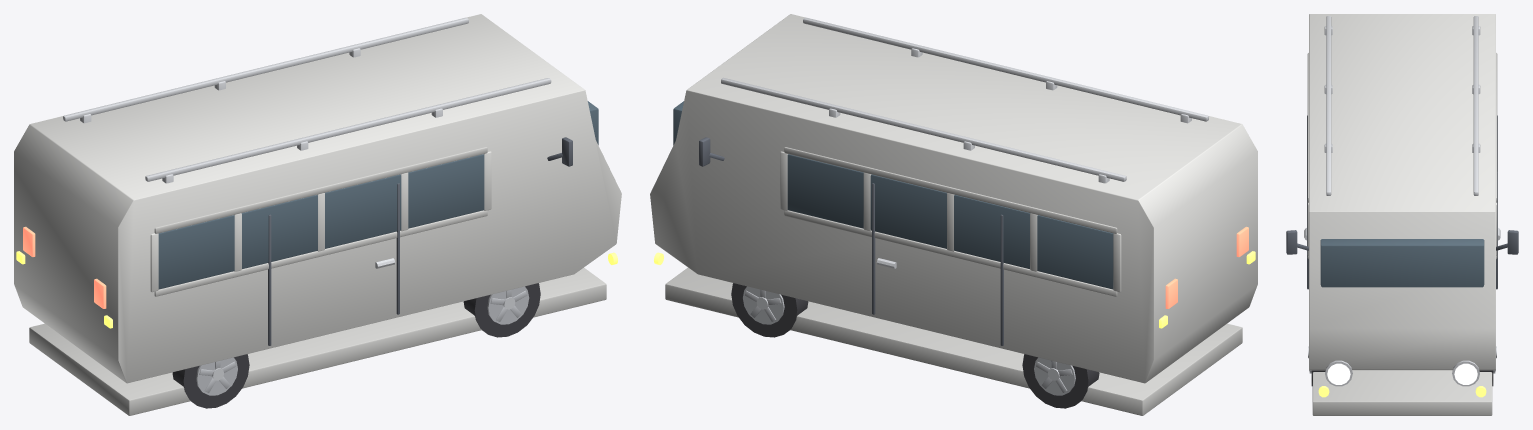
File: th40_kleinbus.glb
3 views of the same model, side by side, from view 1: azimuth 30°, elevation 25°; view 2: azimuth 150°, elevation 25°; view 3: azimuth 270°, elevation 25° (orthographic). The views are drawn at different scales.
Visible parts, largest first — view 1: Buskasten, Cube.001, Cube, Cube.023, Cube.027, Cube.007, Cube.008, Cylinder.008, Cylinder.020, Cylinder.009, Cylinder.021; view 2: Buskasten, Cube.009, Cube, Cube.027, Cube.023, Cube.015, Cube.016, Cylinder.026, Cylinder.014, Cylinder.017, Cylinder.029; view 3: Buskasten, Cube.021, Cube, Cube.023, Cube.027, Cylinder.002, Cylinder.005, Cube.007, Cube.015, Cube.036, Cube.038, Cylinder.003 (+1 smaller).
Boxes of the visible parts, x1,y1,x2,y2 form: Buskasten: (14, 14, 621, 383); Cube.001: (158, 154, 484, 289); Cube: (29, 267, 606, 415); Cube.023: (145, 78, 551, 181); Cube.027: (63, 17, 468, 121); Cube.007: (154, 147, 487, 233); Cube.008: (154, 210, 487, 296); Cylinder.008: (463, 283, 540, 337); Cylinder.020: (172, 354, 249, 408); Cylinder.009: (487, 286, 529, 324); Cylinder.021: (196, 357, 237, 395); Buskasten: (650, 14, 1257, 383); Cube.009: (787, 154, 1113, 289); Cube: (665, 267, 1242, 415); Cube.027: (721, 77, 1126, 181); Cube.023: (803, 17, 1208, 121); Cube.015: (784, 147, 1117, 233); Cube.016: (784, 210, 1117, 296); Cylinder.026: (1022, 354, 1099, 408); Cylinder.014: (731, 283, 808, 337); Cylinder.017: (743, 286, 784, 324); Cylinder.029: (1034, 357, 1075, 395); Buskasten: (1309, 14, 1495, 370); Cube.021: (1320, 239, 1484, 287); Cube: (1312, 370, 1492, 415); Cube.023: (1326, 16, 1331, 195); Cube.027: (1473, 16, 1478, 195); Cylinder.002: (1327, 363, 1350, 384); Cylinder.005: (1454, 363, 1477, 384); Cube.007: (1307, 53, 1308, 202); Cube.015: (1496, 53, 1497, 202); Cube.036: (1286, 230, 1297, 254); Cube.038: (1507, 230, 1518, 254); Cylinder.003: (1325, 360, 1352, 386).
Bounding box in the file's own units: 5.85 × 2.63 × 2.58.
